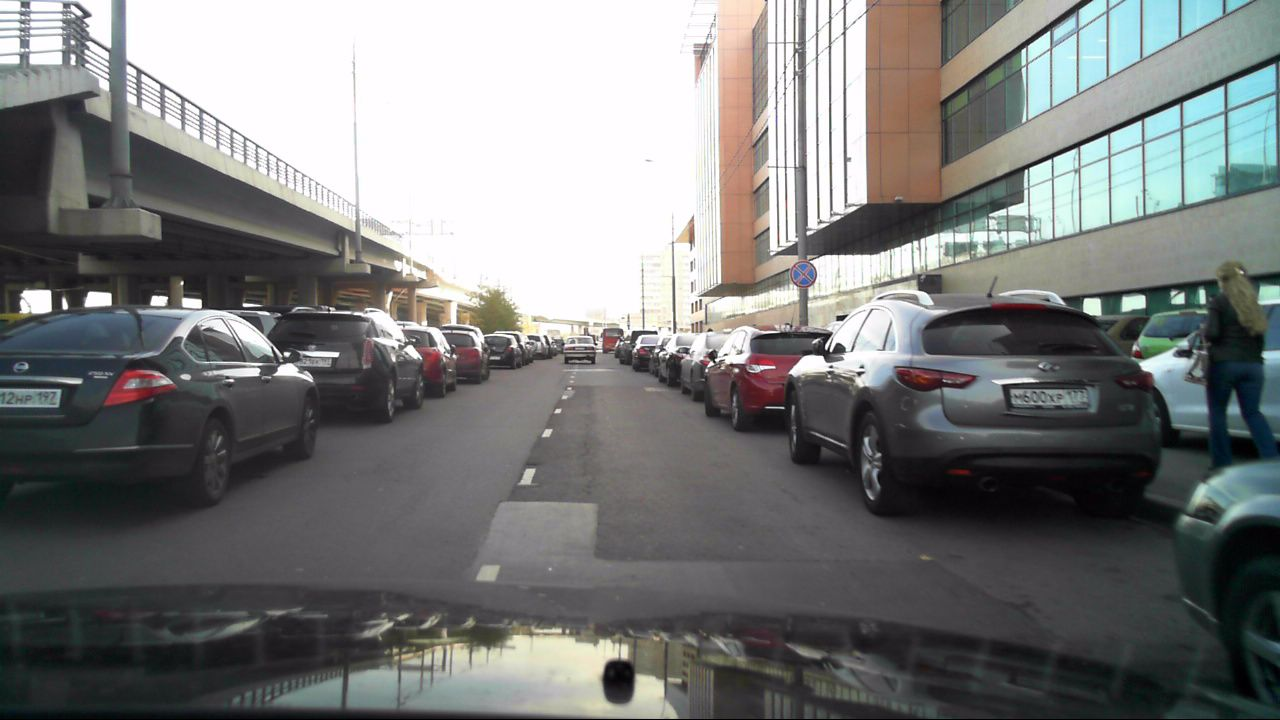No Parking: (788, 260, 817, 289)
